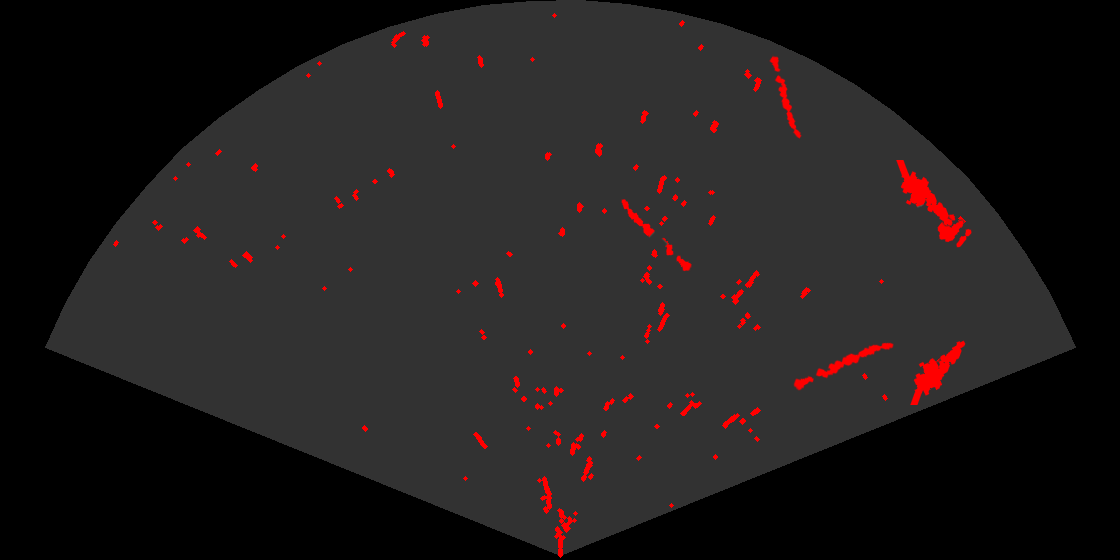ball: (936, 213, 973, 249)
chain: (620, 198, 693, 273), (792, 341, 895, 392), (768, 53, 803, 140)
frogman: (895, 160, 954, 228), (909, 339, 967, 405)
